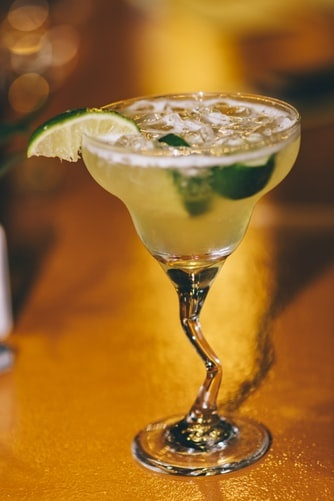whiskey: (83, 96, 298, 485)
